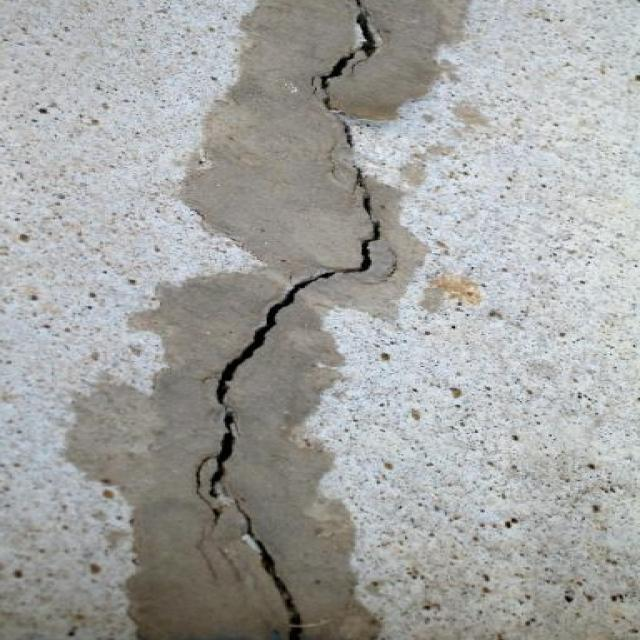Longitudinal: (200, 280, 329, 640), (297, 0, 405, 275)
